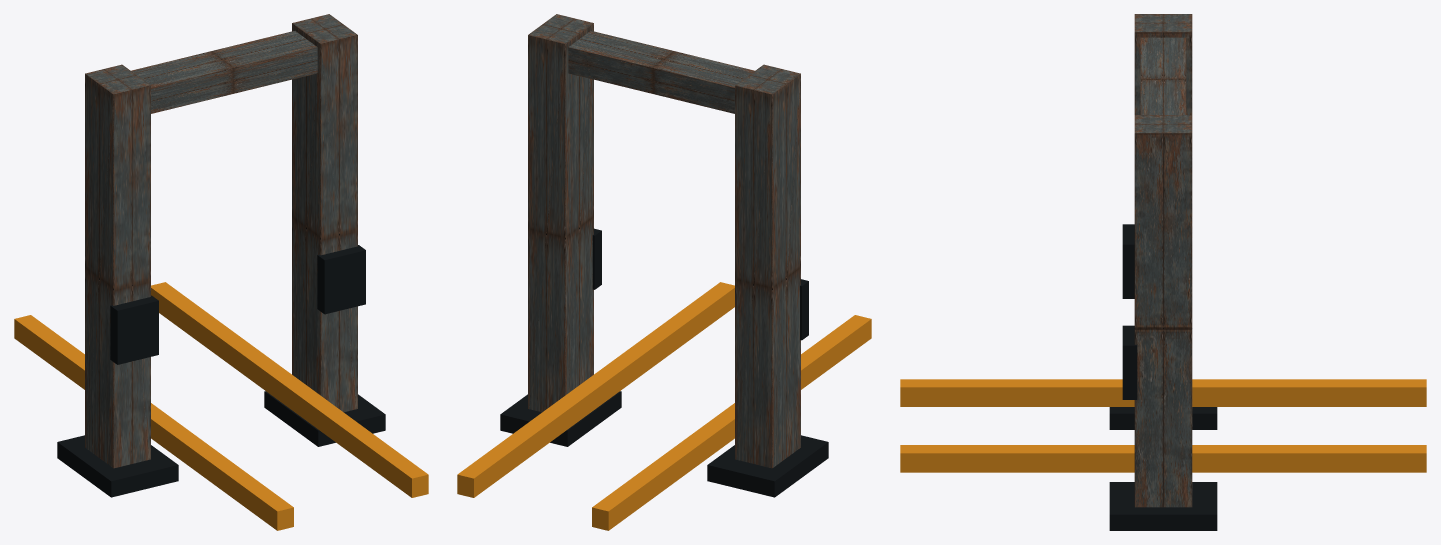
File: VehicleLift.obj
The picture shows the model from 3 angles, left to right: view 1: azimuth 30°, elevation 25°; view 2: azimuth 150°, elevation 25°; view 3: azimuth 270°, elevation 25°; orthographic projection.
Visible parts, largest first — view 1: VehicleLift; view 2: VehicleLift; view 3: VehicleLift.
Boxes of the visible parts, bbox=[...] form: VehicleLift: bbox=[14, 14, 428, 530]; VehicleLift: bbox=[457, 14, 871, 530]; VehicleLift: bbox=[900, 14, 1426, 530].
Bounding box in the file's own units: 2.65 × 3.6 × 4.4.
4 materials, 2 textured.
